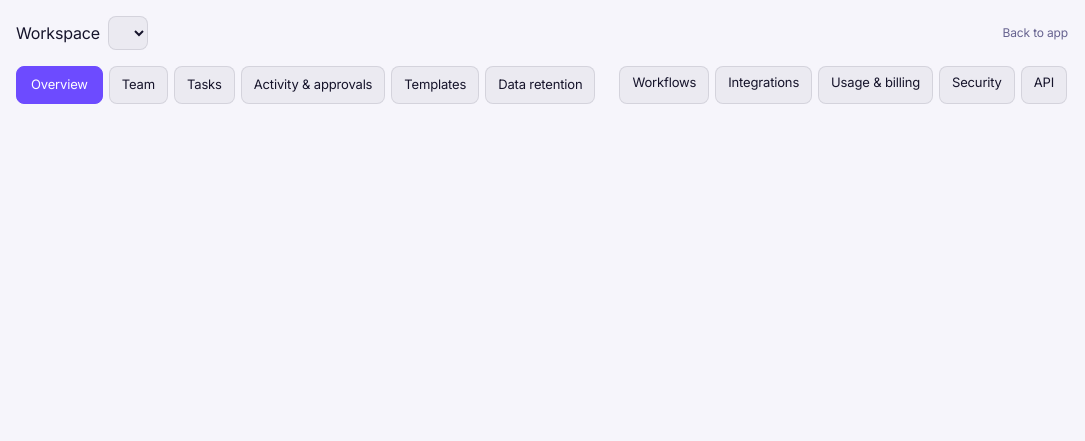
Scenario: data retention: the owner saves days (numbers or null) and can apply the purge now
Click the tab "Data retention" at (540, 85), box [485,66,595,104]
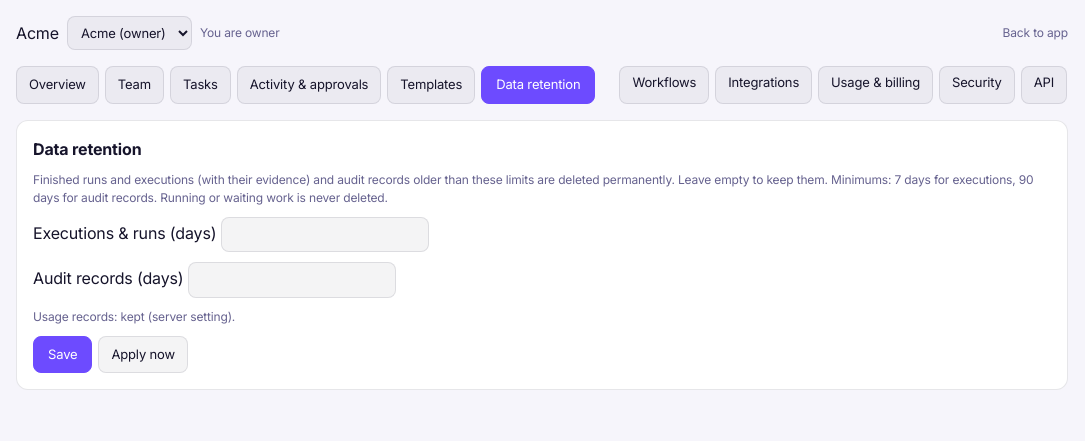
Type "30" into the field named "Execution retention days" at (325, 234), box [221,216,429,252]
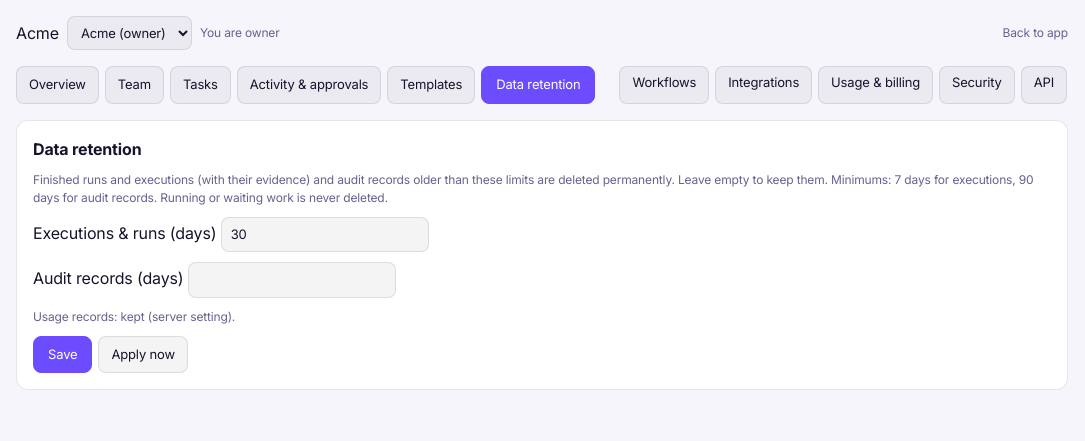
Click the button "Save" at (63, 354), box [33,336,92,373]
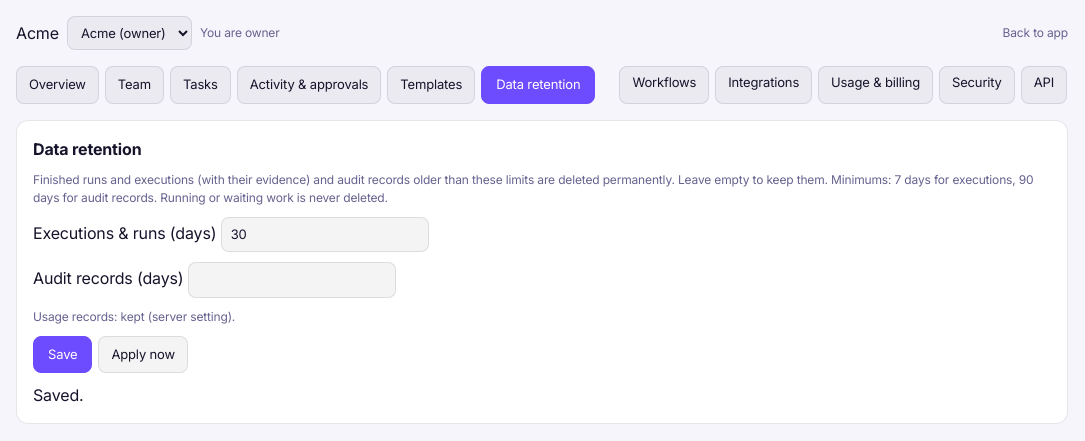
Check: the text "Saved." is shown, box [33,385,84,405]
Click the button "Apply now" at (143, 354), box [98,336,188,373]
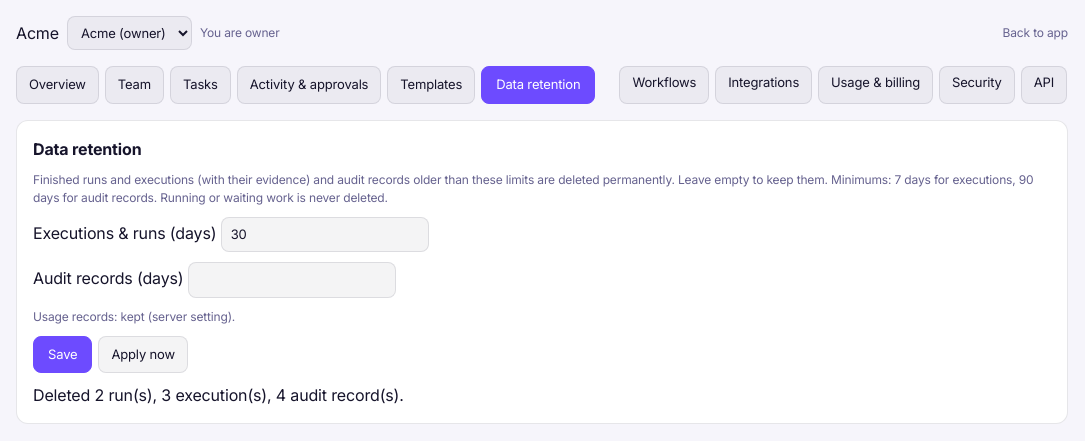
Check: the text "Deleted 2 run(s), 3 execution(s), 4 audit record(s)." is shown, box [33,385,404,405]
